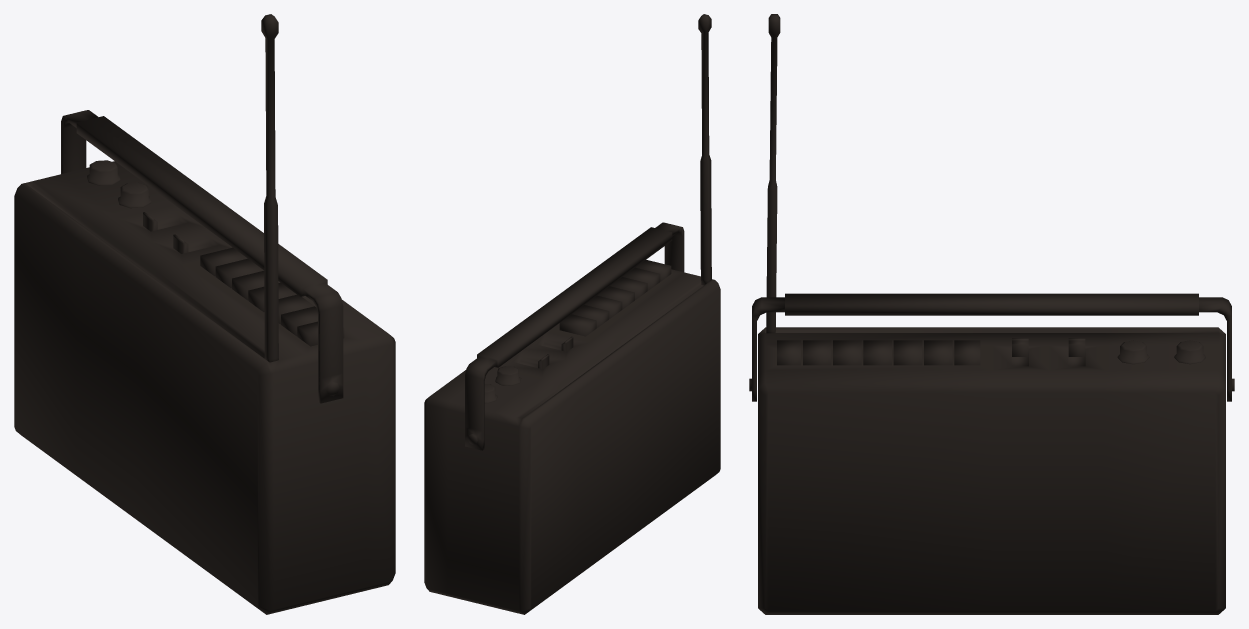
Rendered from SM_Radio.fbx.
The picture shows the model from 3 angles, left to right: view 1: azimuth 30°, elevation 25°; view 2: azimuth 150°, elevation 25°; view 3: azimuth 270°, elevation 25°; orthographic projection. The views are drawn at different scales.
Parts seen in each view (by area): view 1: Radio; view 2: Radio; view 3: Radio.
Boxes of the visible parts, bbox=[...] form: Radio: bbox=[14, 14, 395, 614]; Radio: bbox=[424, 14, 720, 614]; Radio: bbox=[749, 14, 1234, 614].
Size of the model in its own units: 14.98 by 62.23 by 49.95.
